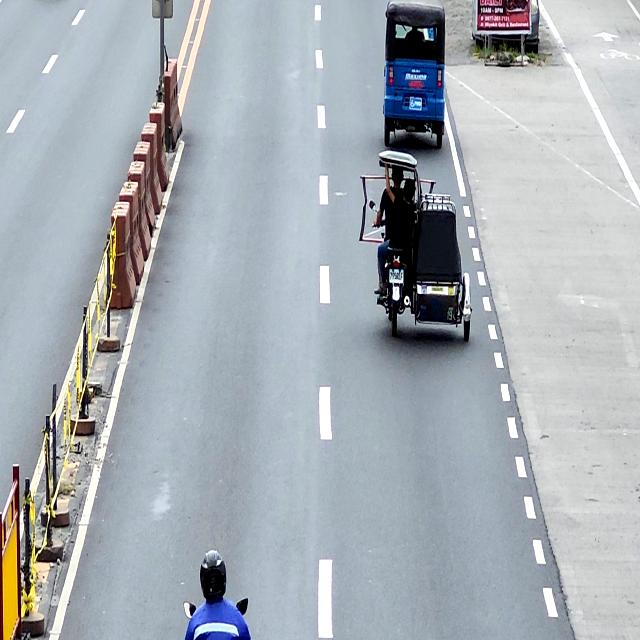E-bike: (383, 0, 445, 148)
License-Plate: (389, 269, 404, 283)
Tricycle: (370, 150, 472, 341)
